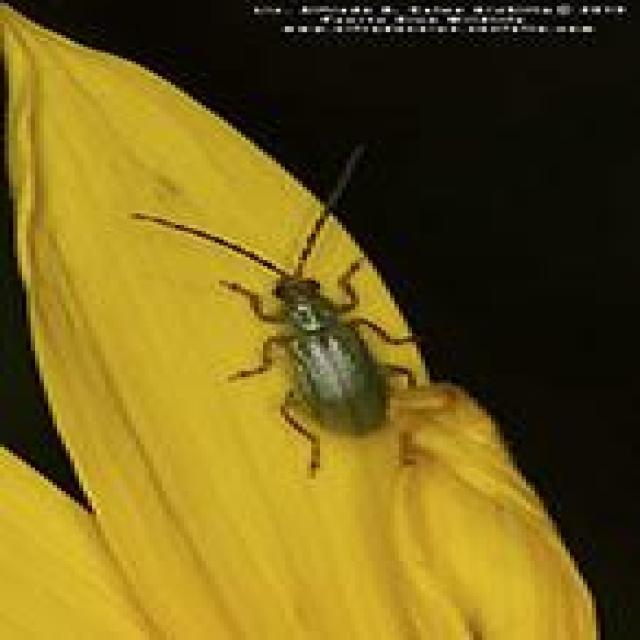gusano_gris: (124, 142, 474, 468)
